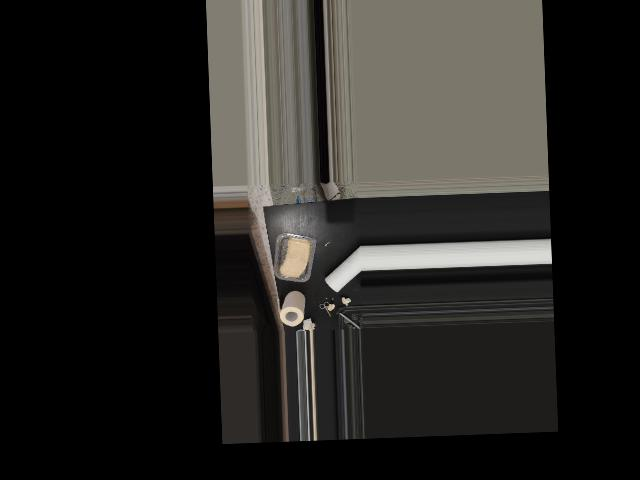cheese: (275, 231, 316, 283)
